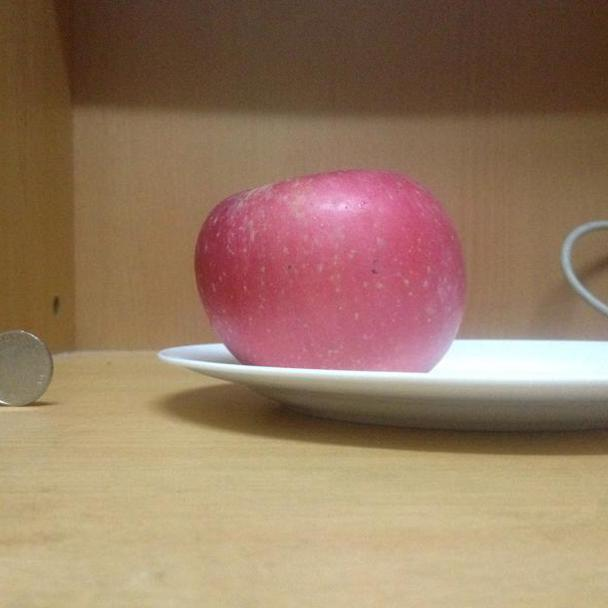apple: (196, 169, 466, 370)
